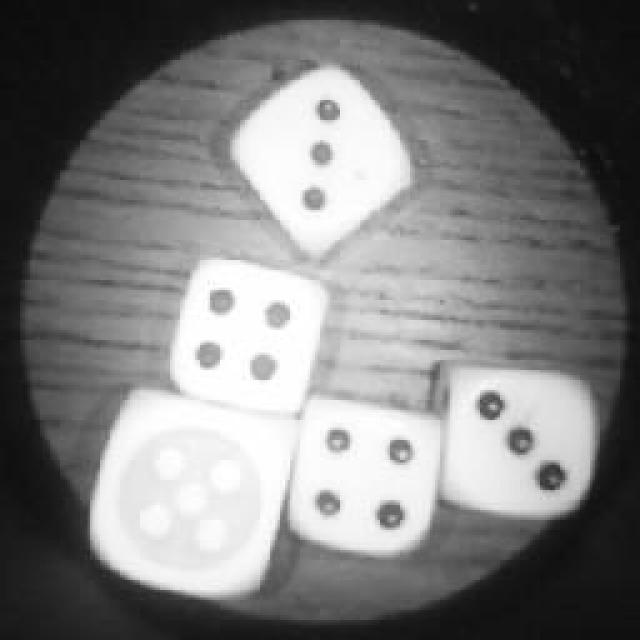dice_3: (223, 55, 425, 265), (435, 358, 600, 528)
dice_4: (160, 258, 338, 420), (277, 392, 445, 562)
dice_5: (77, 382, 295, 608)
